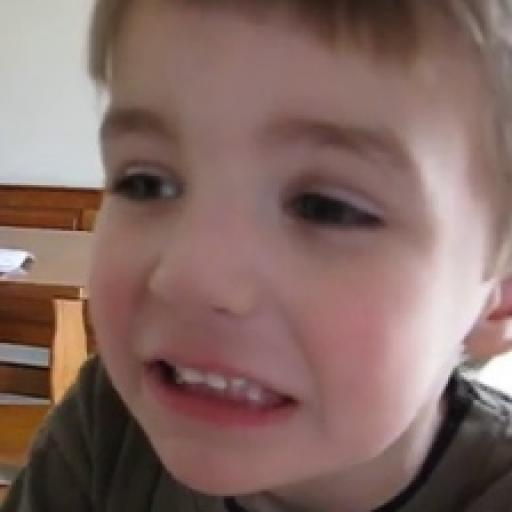Autism: (43, 0, 511, 482)
